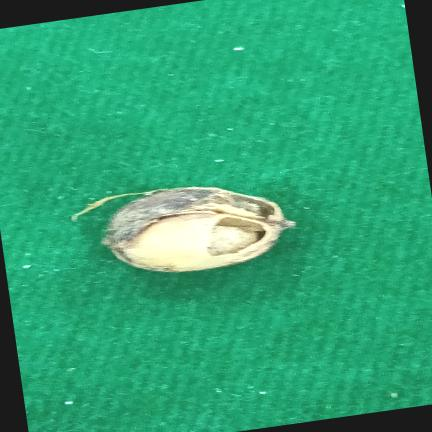husk: (102, 186, 295, 272)
